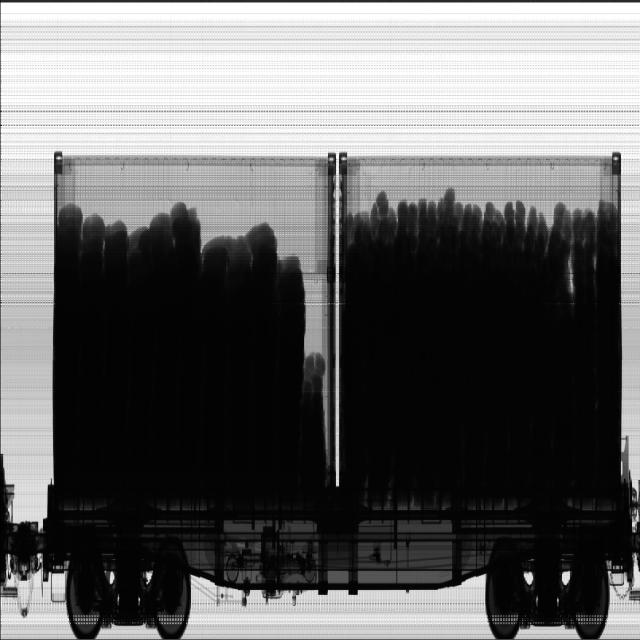clothes: (345, 188, 619, 481), (58, 202, 328, 473)
